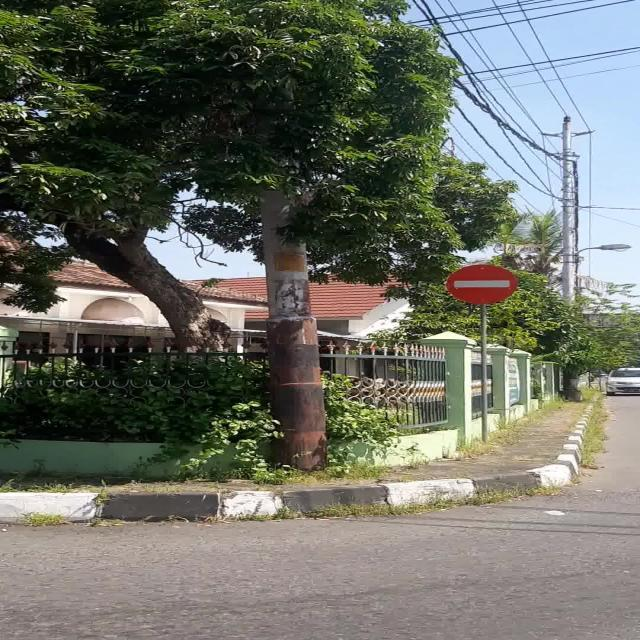Dilarang Masuk: (446, 264, 517, 304)
